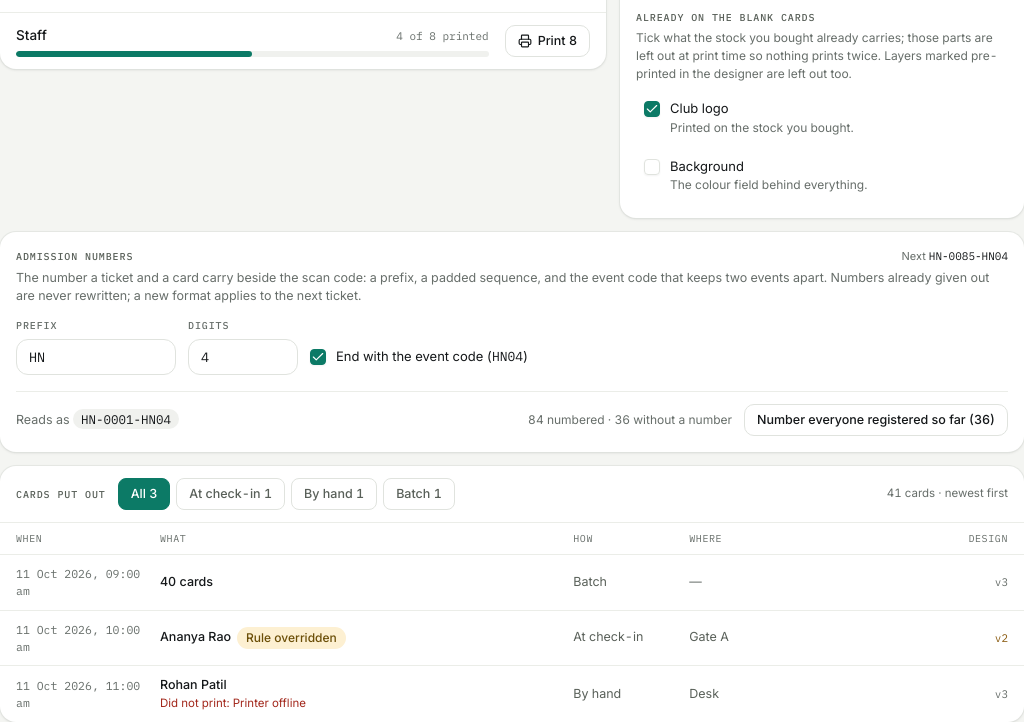
Test: ID cards › logs every card put out, filters it by how, and says what went wrong
(page scrolled)
Check: the text "40 cards" is shown, box [160,573,213,592]
Check: the text "Ananya Rao" is shown, box [160,628,231,647]
Click the button "At check-in 1": (231, 494) [176,478,285,510]
(page scrolled)
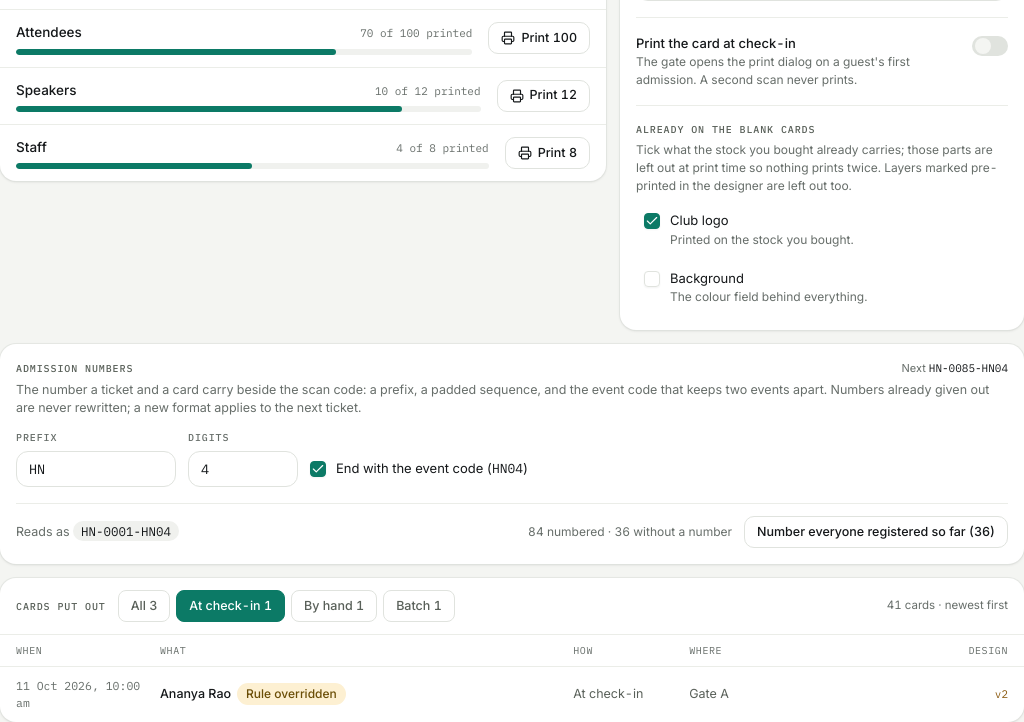
Check: the text "Ananya Rao" is shown, box [160,685,231,704]
Check: the text "40 cards" is gone
